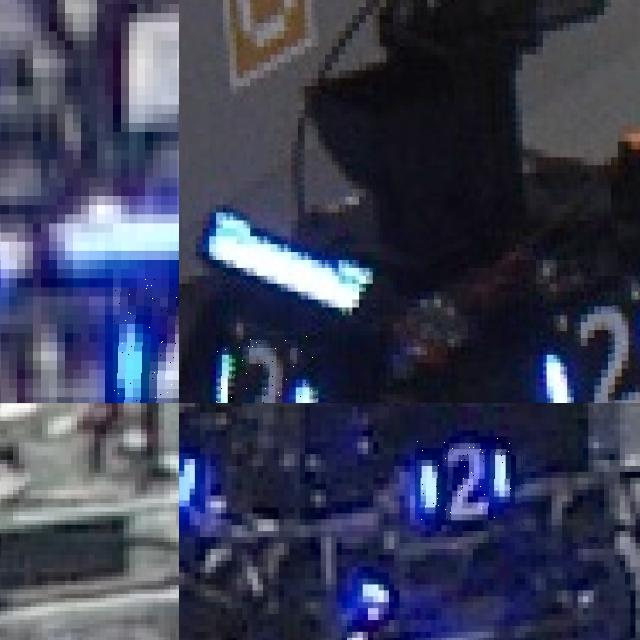B2: (416, 437, 526, 525), (546, 303, 640, 403), (216, 334, 318, 403), (179, 424, 200, 519)
B4: (113, 278, 179, 403)
